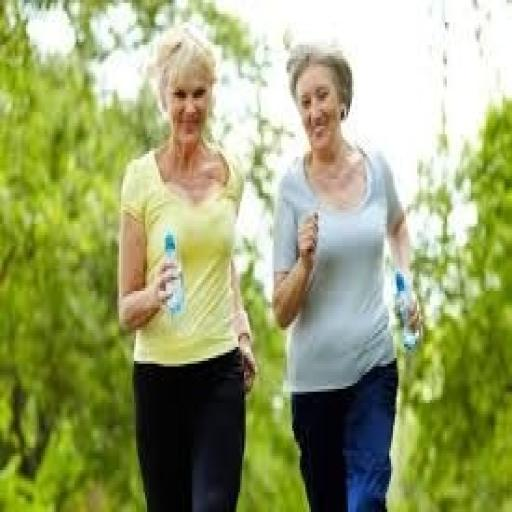running: (268, 36, 425, 510), (115, 22, 259, 510)
